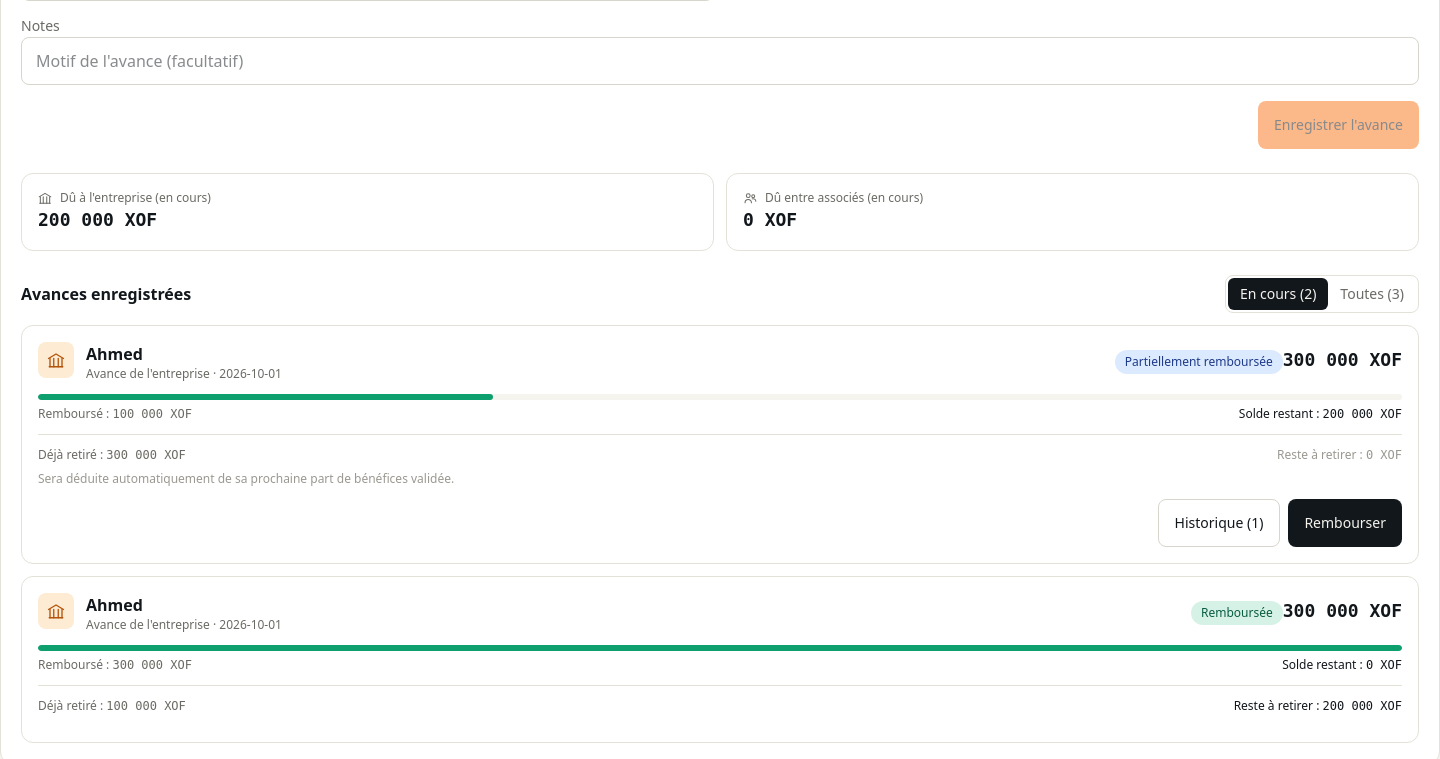
ShareholderAdvancesPanel › lists open advances by default and shows the deduction history
(page scrolled)
Expected: the element with test id "advance-1" is shown, x1=21 y1=325 x2=1419 y2=564
Expected: the element with test id "advance-drawn-3" shows "200 000", x1=1322 y1=699 x2=1402 y2=713
Click the button with test id "advance-history-1". click: {"x": 1219, "y": 523}
box: x1=1158 y1=499 x2=1280 y2=547
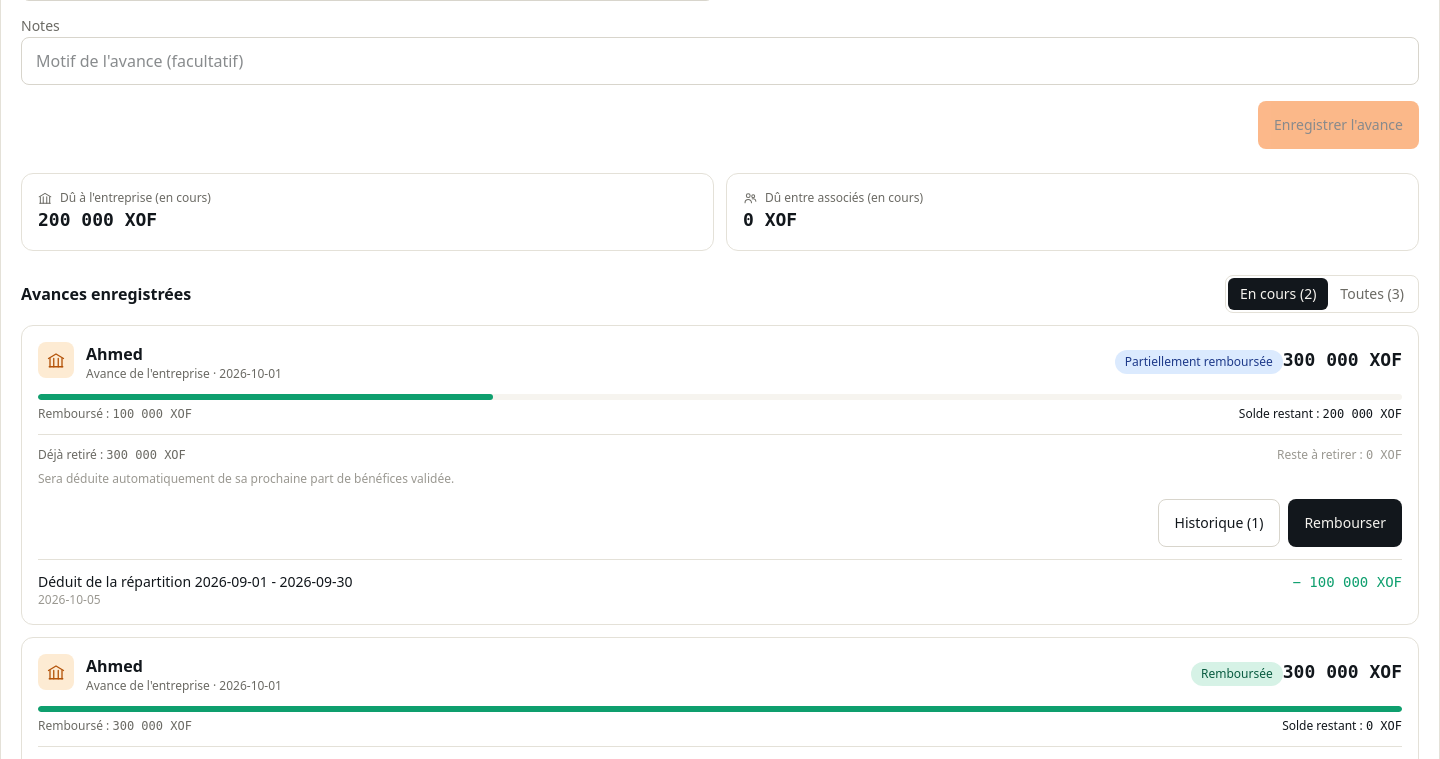
Now the element with test id "advance-1" shows "Déduit de la répartition 2026-09-01 - 2026-09-30", box x1=38 y1=572 x2=353 y2=591
Click the button with test id "advance-filter-all". click: {"x": 1372, "y": 294}
box: x1=1328 y1=278 x2=1416 y2=310
(page scrolled)
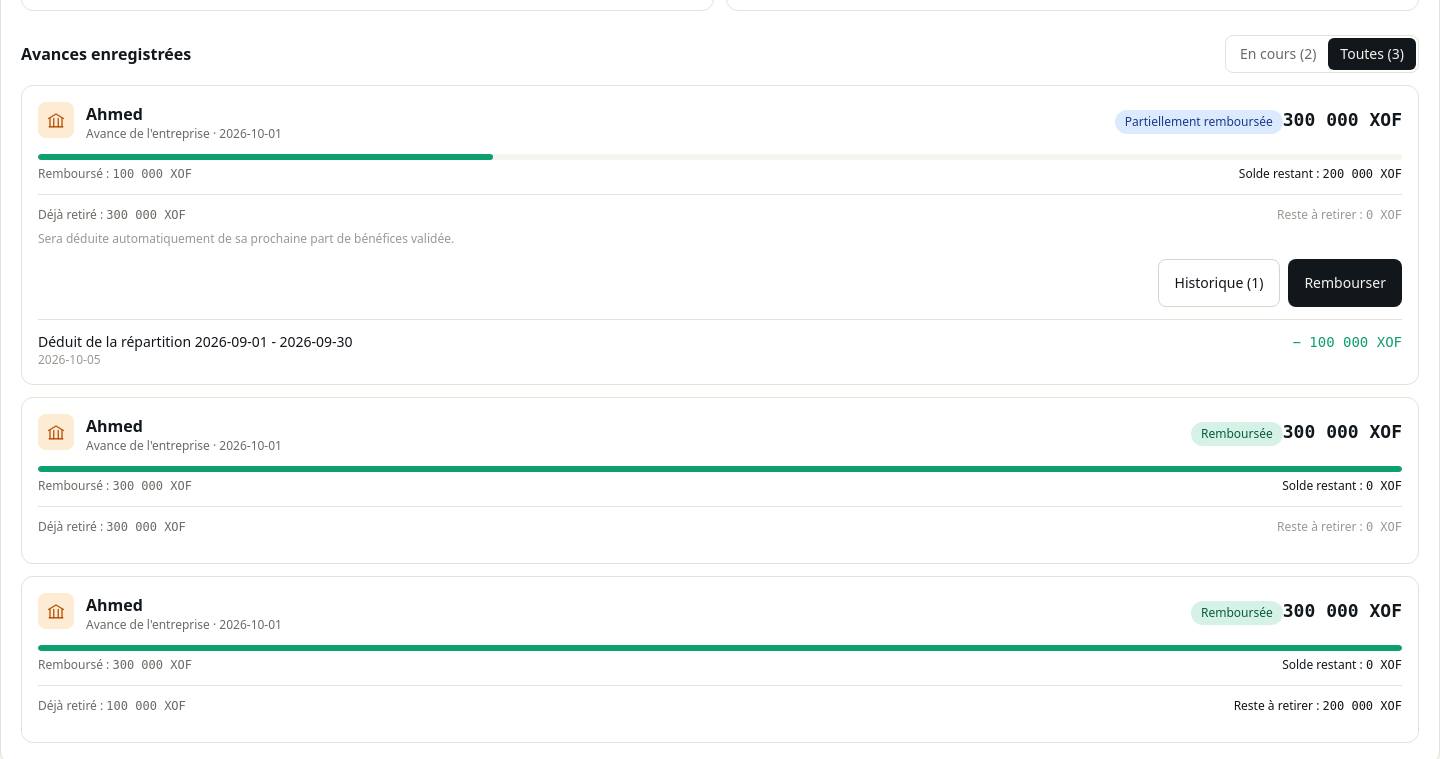
Now the element with test id "advance-2" is shown, box x1=21 y1=397 x2=1419 y2=564
